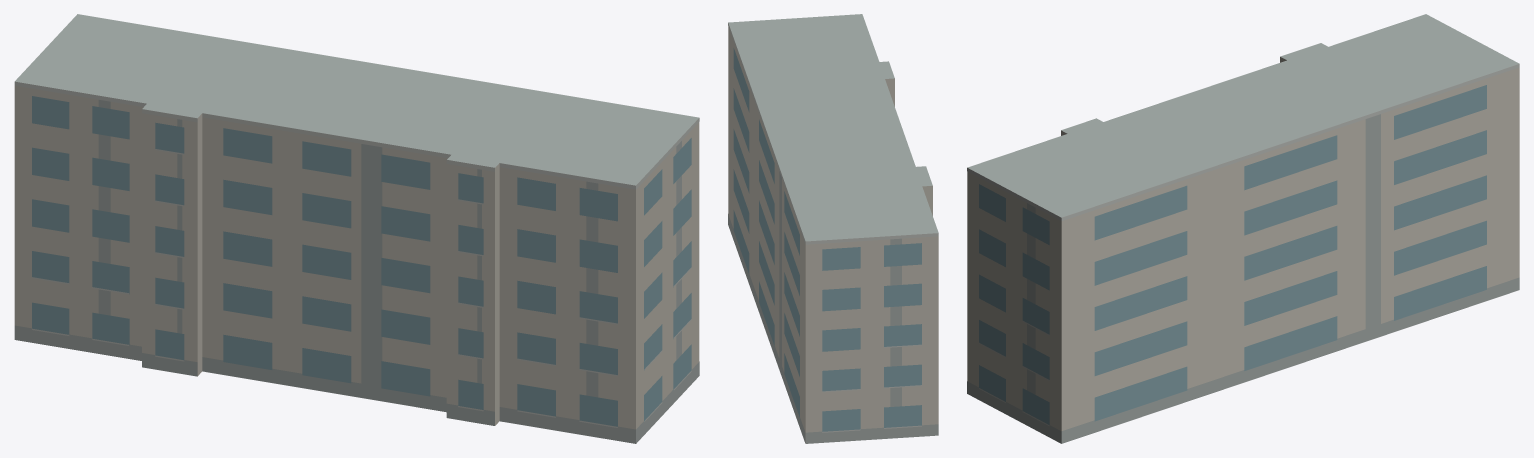
File: residential-18ae12ad-5ca9-45b7-8cea-31c98fd3d581.glb
3 renders of one model, left to right at view 1: azimuth 30°, elevation 25°; view 2: azimuth 150°, elevation 25°; view 3: azimuth 270°, elevation 25°, orthographic. The views are drawn at different scales.
Visible parts, largest first — view 1: residential-18ae12ad-5ca9-45b7-8cea-31c98fd3d581.tmp; view 2: residential-18ae12ad-5ca9-45b7-8cea-31c98fd3d581.tmp; view 3: residential-18ae12ad-5ca9-45b7-8cea-31c98fd3d581.tmp.
Boxes of the visible parts, x1=… form: residential-18ae12ad-5ca9-45b7-8cea-31c98fd3d581.tmp: x1=14, y1=14, x2=699, y2=443; residential-18ae12ad-5ca9-45b7-8cea-31c98fd3d581.tmp: x1=728, y1=14, x2=938, y2=443; residential-18ae12ad-5ca9-45b7-8cea-31c98fd3d581.tmp: x1=967, y1=14, x2=1519, y2=443.
Size of the model in its own units: 29.47 by 15.25 by 33.77.
